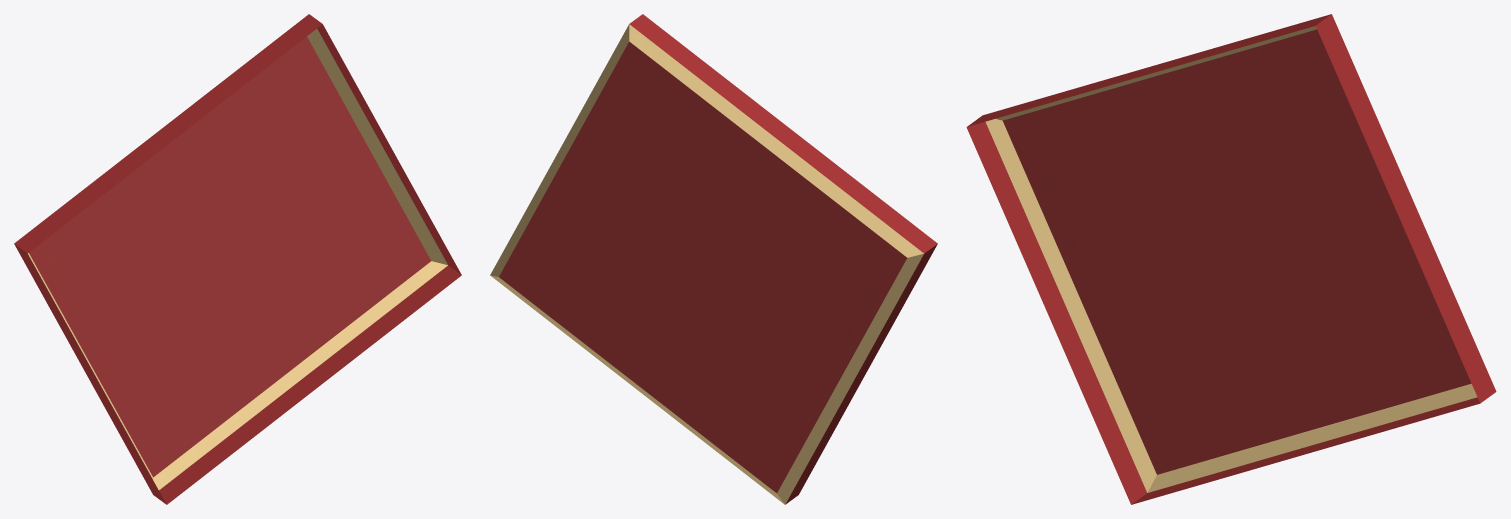
File: Dizuo.FBX
3 renders of one model, left to right at view 1: azimuth 30°, elevation 25°; view 2: azimuth 150°, elevation 25°; view 3: azimuth 330°, elevation 25°, orthographic. The views are drawn at different scales.
Parts seen in each view (by area): view 1: Object036; view 2: Object036; view 3: Object036.
Part boxes in pixels (<box>): Object036: <box>14,14,461,504</box>; Object036: <box>490,14,937,504</box>; Object036: <box>966,14,1496,504</box>.
Bounding box in the file's own units: 7.54 × 7.35 × 0.5339.
Materials: 1 (1 with a texture image).
